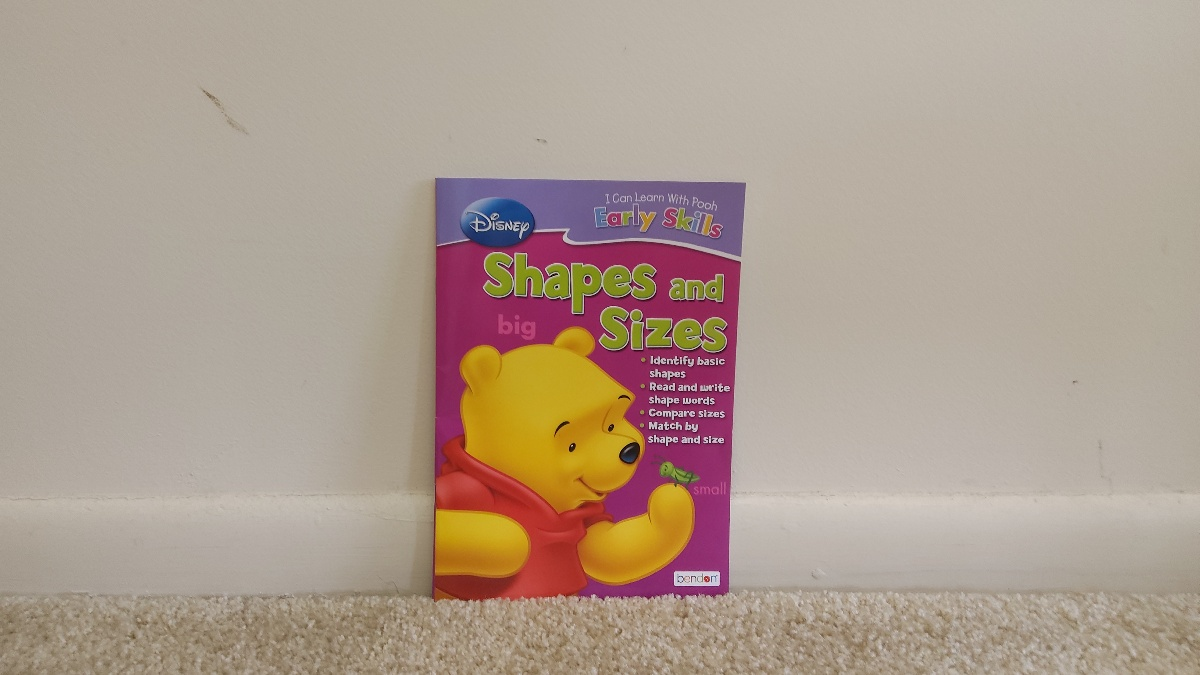book: (439, 179, 725, 595)
